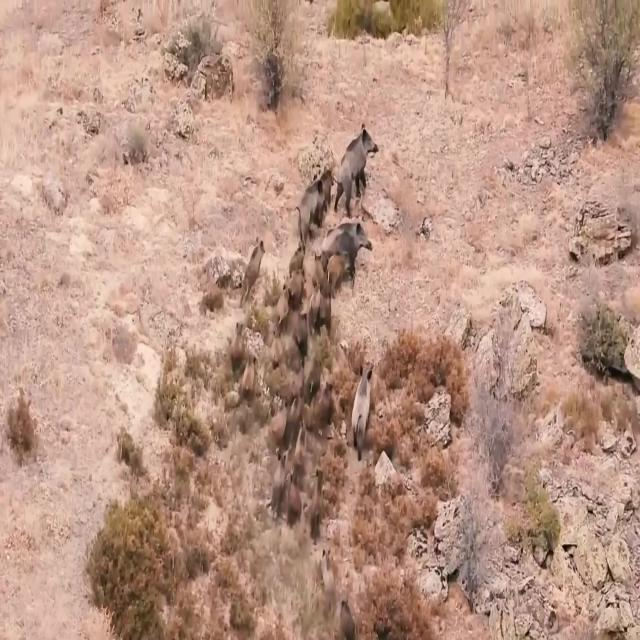pig: (338, 123, 382, 210), (283, 172, 330, 234), (331, 216, 372, 284)
